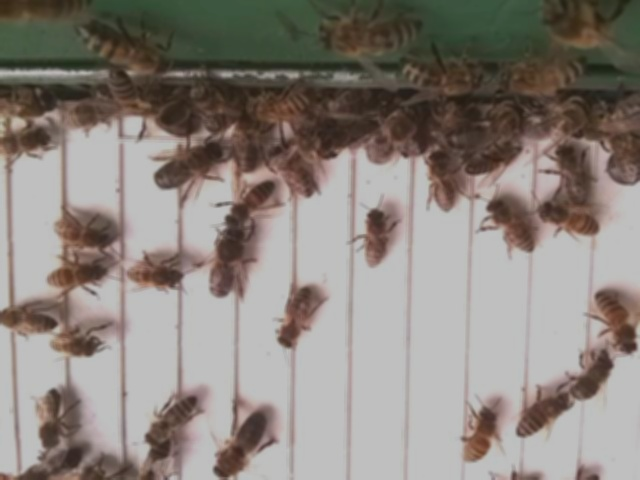Drone: (208, 409, 268, 480), (150, 139, 225, 193), (205, 226, 250, 300)
Worker: (483, 197, 538, 256), (142, 395, 200, 449), (593, 288, 638, 354), (268, 148, 317, 204), (277, 285, 315, 353), (458, 404, 498, 468), (551, 143, 590, 208), (224, 180, 274, 230), (568, 353, 614, 405), (514, 397, 564, 443), (536, 205, 605, 238), (424, 151, 460, 214), (43, 259, 109, 293), (360, 204, 391, 274), (50, 219, 115, 252), (128, 258, 186, 293), (0, 305, 58, 336), (46, 330, 101, 361), (36, 388, 62, 451)
